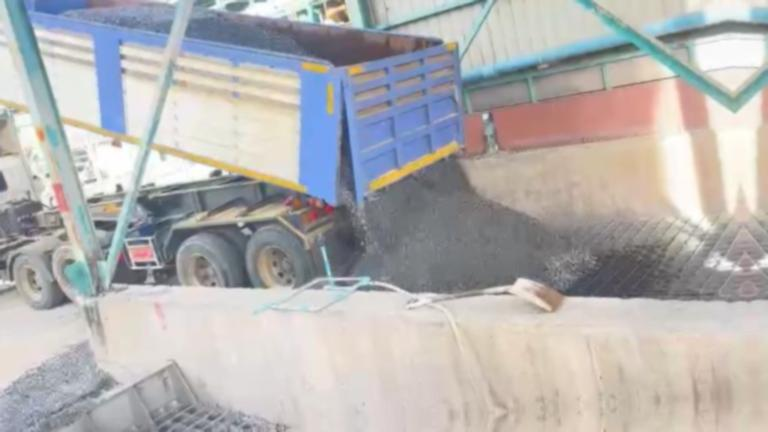gravel: (356, 158, 595, 291), (0, 341, 112, 432), (186, 8, 311, 55), (63, 6, 175, 33)
